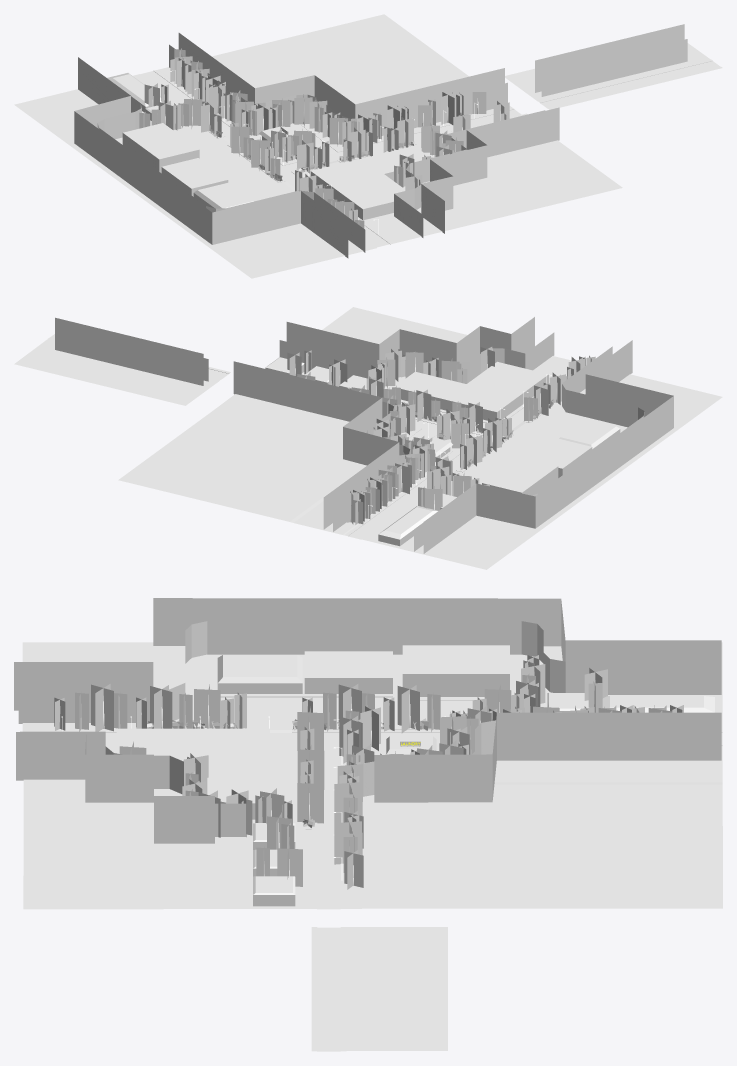
File: quaternius-laundry-rack.glb
The picture shows the model from 3 angles, top to bottom: view 1: azimuth 30°, elevation 25°; view 2: azimuth 150°, elevation 25°; view 3: azimuth 270°, elevation 25°; orthographic projection. The views are drawn at different scales.
Visible parts, largest first — view 1: Terrain, Background_01, Terrain_01, Terrain_02, Background_02, Background, Background_01_001.001, building_002, Trees_03, Background.001, Trees_01, building_04 (+24 smaller); view 2: Terrain, Background_01, Terrain_01, Background, Background_02, Background.001, Terrain.002, building_002, Terrain_02, Background_01_02, Trees_03, Background_01_01 (+20 smaller); view 3: Terrain, Terrain_02, Background_01_01, Background_01, Background, Terrain.002, Terrain_01, Background_02, Trees_08, building_04, building_002, building_001 (+26 smaller).
Part boxes in pixels (left/top/right/bottom): Terrain: left=140, top=14, right=521, bottom=247; Background_01: left=74, top=57, right=348, bottom=258; Terrain_01: left=14, top=75, right=373, bottom=278; Terrain_02: left=302, top=140, right=622, bottom=243; Background_02: left=421, top=107, right=559, bottom=233; Background: left=178, top=33, right=504, bottom=118; Background_01_001.001: left=541, top=39, right=687, bottom=96; building_002: left=310, top=158, right=405, bottom=220; Trees_03: left=170, top=48, right=253, bottom=126; Background.001: left=535, top=24, right=684, bottom=92; Trees_01: left=348, top=92, right=486, bottom=142; building_04: left=122, top=123, right=199, bottom=173; Terrain: left=118, top=365, right=586, bottom=539; Background_01: left=423, top=340, right=673, bottom=553; Terrain_01: left=365, top=374, right=722, bottom=569; Background: left=233, top=361, right=399, bottom=529; Background_02: left=286, top=317, right=534, bottom=363; Background.001: left=55, top=317, right=203, bottom=385; Terrain.002: left=14, top=339, right=218, bottom=405; building_002: left=445, top=361, right=548, bottom=421; Terrain_02: left=301, top=307, right=571, bottom=428; Background_01_02: left=279, top=332, right=554, bottom=383; Trees_03: left=346, top=445, right=427, bottom=524; Background_01_01: left=414, top=346, right=644, bottom=551; Terrain: left=105, top=733, right=722, bottom=909; Terrain_02: left=23, top=745, right=311, bottom=909; Background_01_01: left=18, top=621, right=721, bottom=723; Background_01: left=14, top=598, right=721, bottom=710; Background: left=374, top=712, right=721, bottom=802; Terrain.002: left=346, top=927, right=447, bottom=1050; Terrain_01: left=22, top=642, right=722, bottom=732; Background_02: left=16, top=732, right=214, bottom=843; Trees_08: left=54, top=684, right=246, bottom=731; building_04: left=402, top=645, right=509, bottom=696; building_002: left=116, top=728, right=269, bottom=765; building_001: left=304, top=651, right=392, bottom=693.
Size of the model in its own units: 321 by 18.43 by 235.
61 materials, 11 textured.
